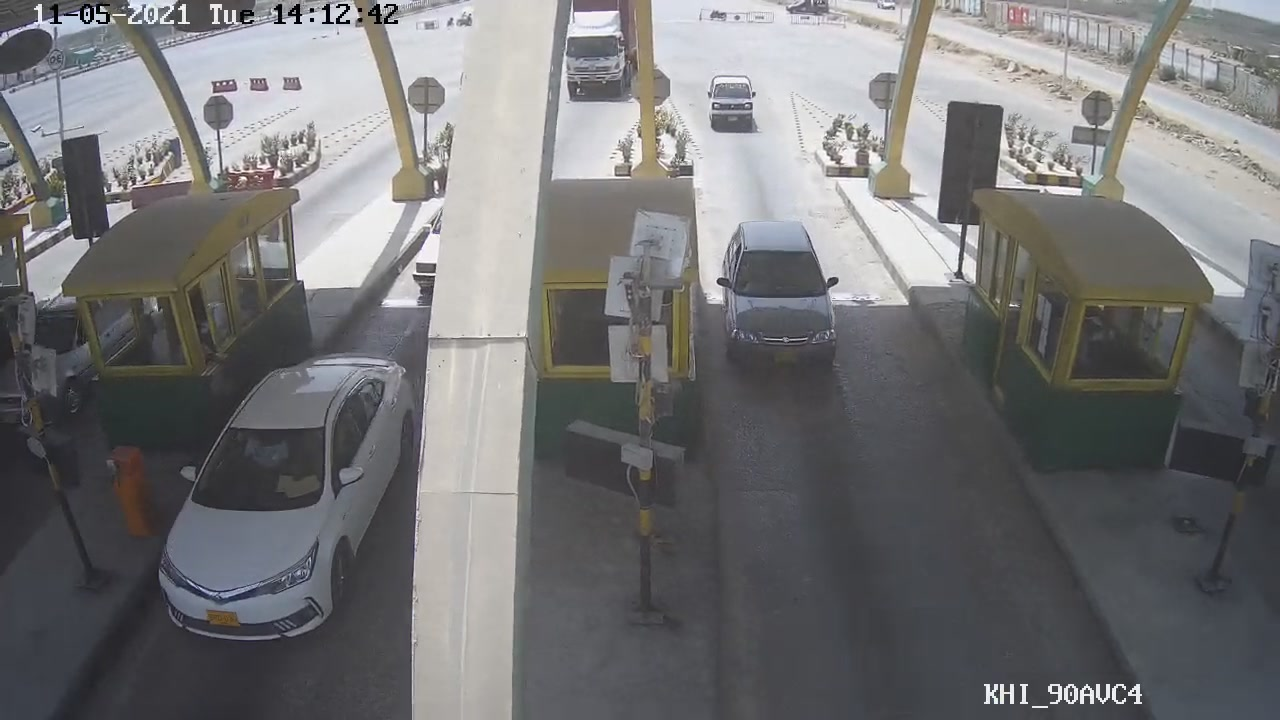F1: (699, 207, 848, 384)
